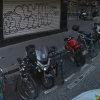Motorcycle: (20, 39, 100, 89)
